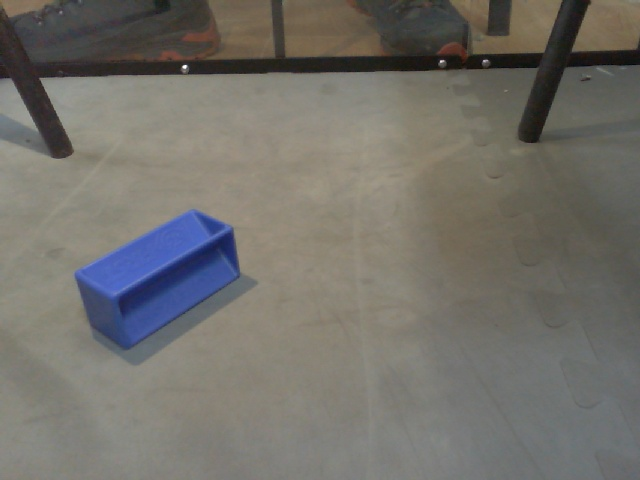BlueSample: (74, 207, 243, 353)
